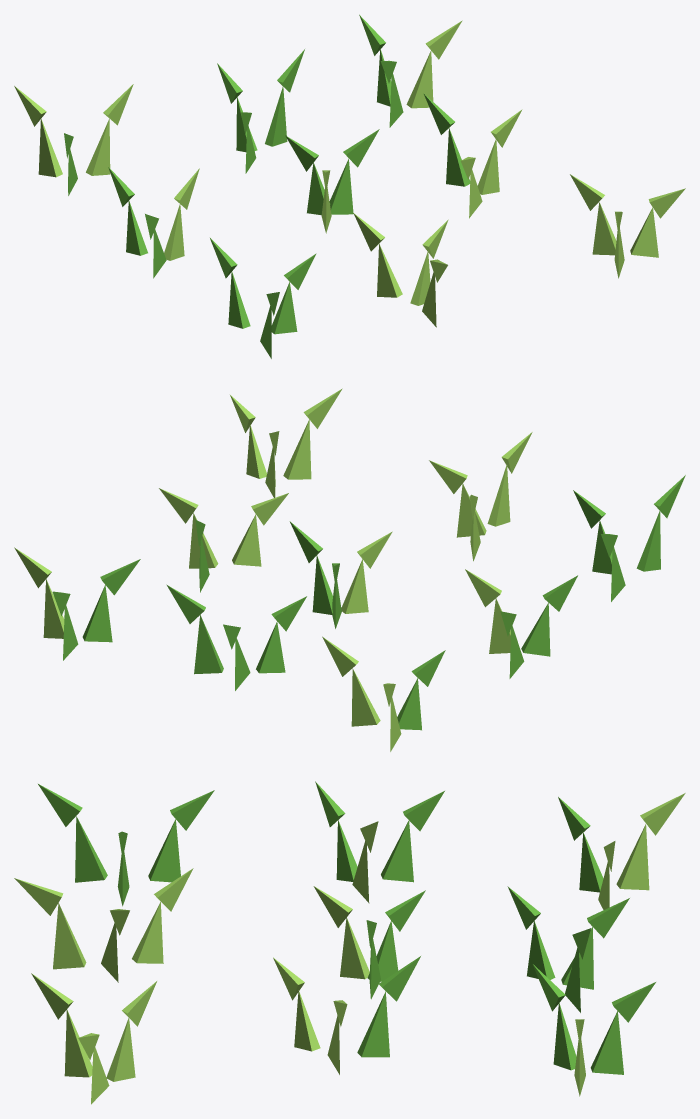
The model's file is rice-1.glb.
The picture shows the model from 3 angles, top to bottom: view 1: azimuth 30°, elevation 25°; view 2: azimuth 150°, elevation 25°; view 3: azimuth 270°, elevation 25°; orthographic projection. The views are drawn at different scales.
Parts seen in each view (by area): view 1: rice-1; view 2: rice-1; view 3: rice-1.
Part boxes in pixels (x1,y1,x2,y2): rice-1: [14, 14, 685, 358]; rice-1: [14, 388, 685, 751]; rice-1: [14, 781, 685, 1104].
Bounding box in the file's own units: 0.5728 × 0.1075 × 0.6539.
1 material, 1 textured.
